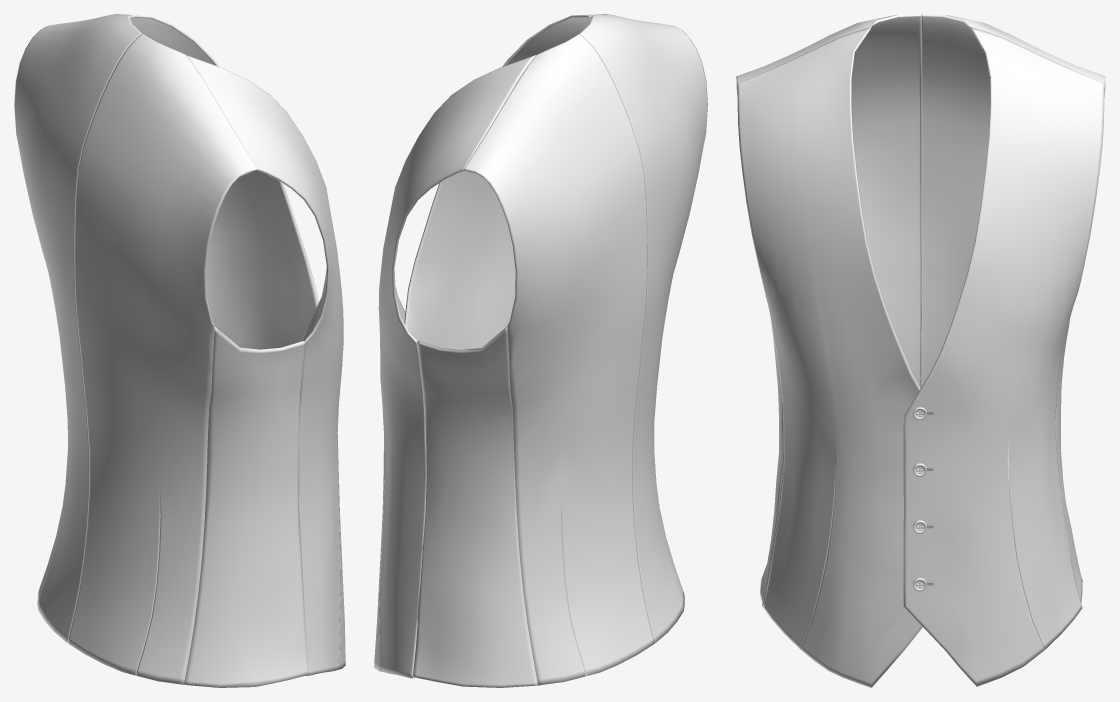
File: single_breasted_point_bottom.glb
The picture shows the model from 3 angles, left to right: view 1: azimuth 30°, elevation 25°; view 2: azimuth 150°, elevation 25°; view 3: azimuth 270°, elevation 25°; orthographic projection. The views are drawn at different scales.
Visible parts, largest first — view 1: SM_Vest_Back_outside, SM_Vest_front_Sigle_point; view 2: SM_Vest_Back_outside, SM_Vest_front_Sigle_point; view 3: SM_Vest_front_Sigle_point, SM_Vest_Back_outside, SM_Button_4.
Boxes of the visible parts, x1=… form: SM_Vest_Back_outside: x1=14, y1=14, x2=309, y2=687; SM_Vest_front_Sigle_point: x1=125, y1=14, x2=345, y2=675; SM_Vest_Back_outside: x1=412, y1=14, x2=707, y2=687; SM_Vest_front_Sigle_point: x1=374, y1=14, x2=596, y2=678; SM_Vest_front_Sigle_point: x1=737, y1=27, x2=1104, y2=687; SM_Vest_Back_outside: x1=736, y1=14, x2=1105, y2=606; SM_Button_4: x1=913, y1=407, x2=933, y2=591.
Bounding box in the file's own units: 1.56 × 3.79 × 2.12.
Materials: 5 (1 with a texture image).
